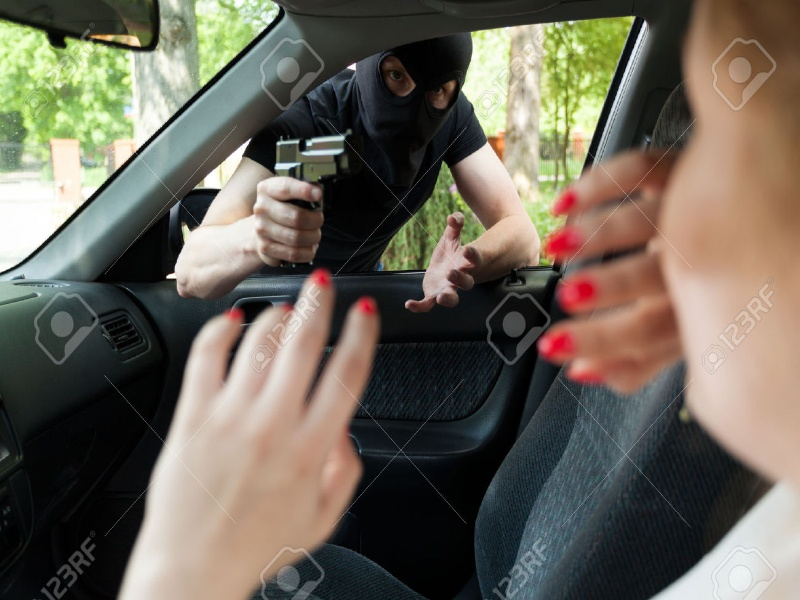gun: (269, 131, 362, 255)
